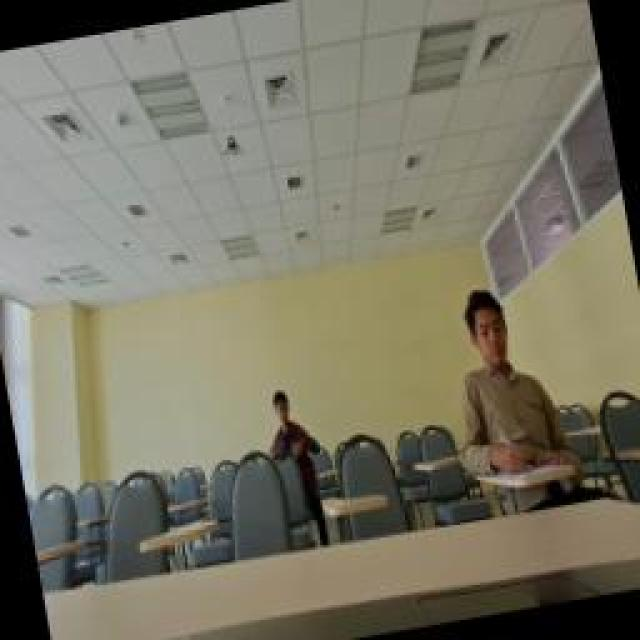study: (438, 273, 580, 485)
